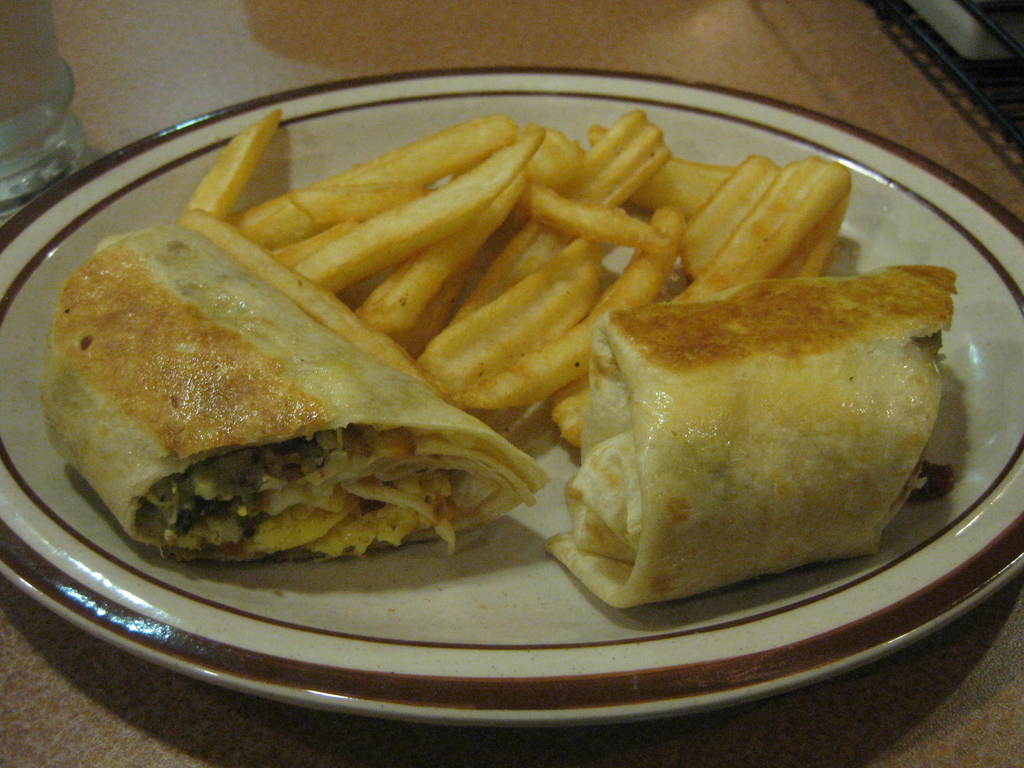French fries: (101, 125, 632, 460)
